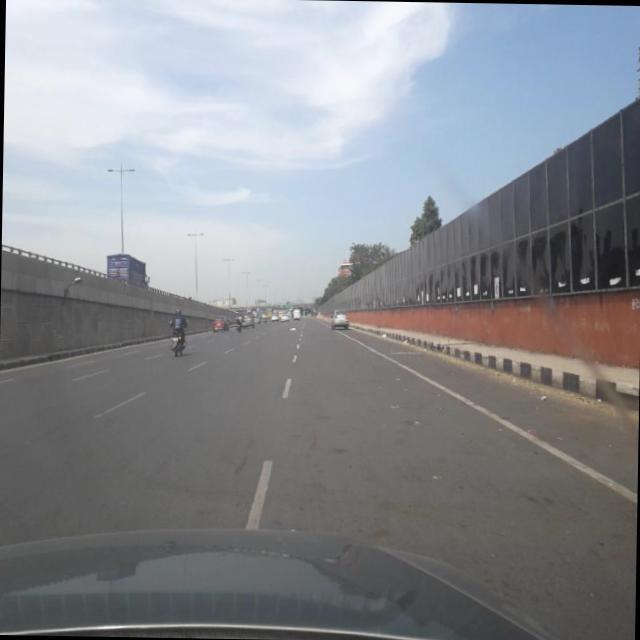pothole: (232, 429, 256, 476)
